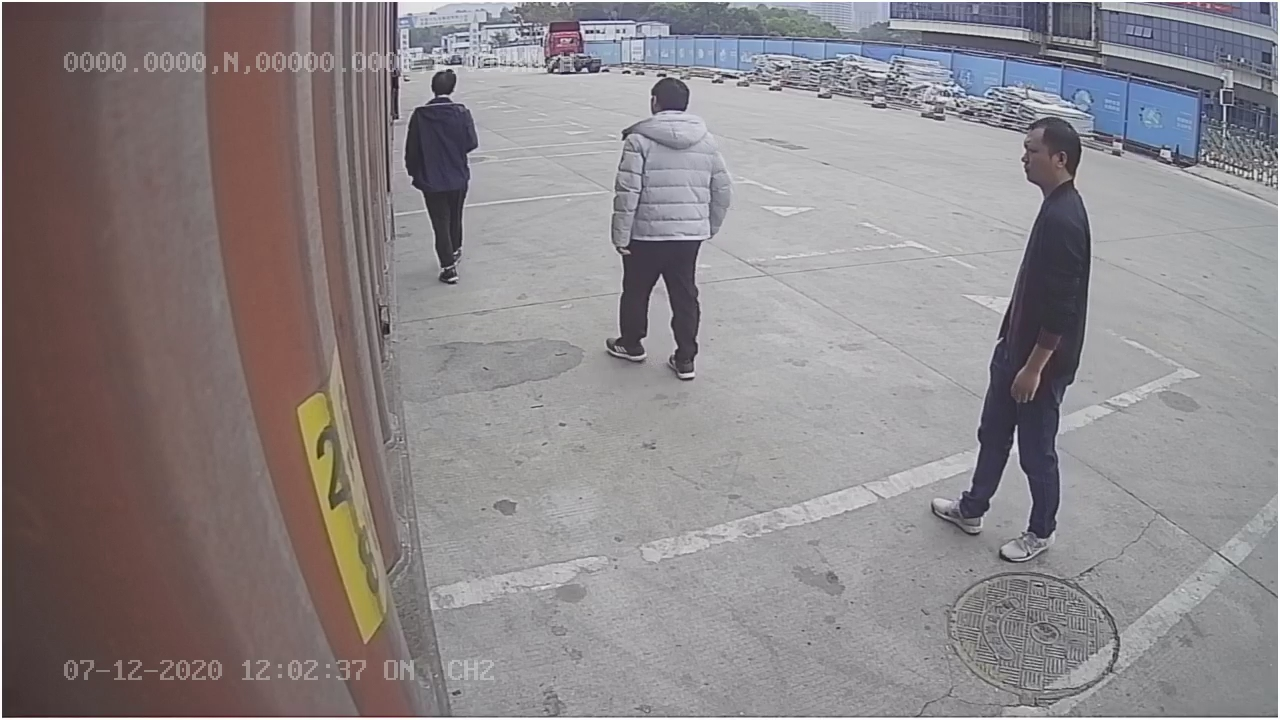person: (925, 110, 1099, 562), (601, 77, 730, 383)
